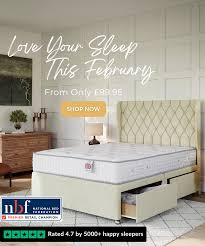bed-matress: (31, 141, 198, 186)
